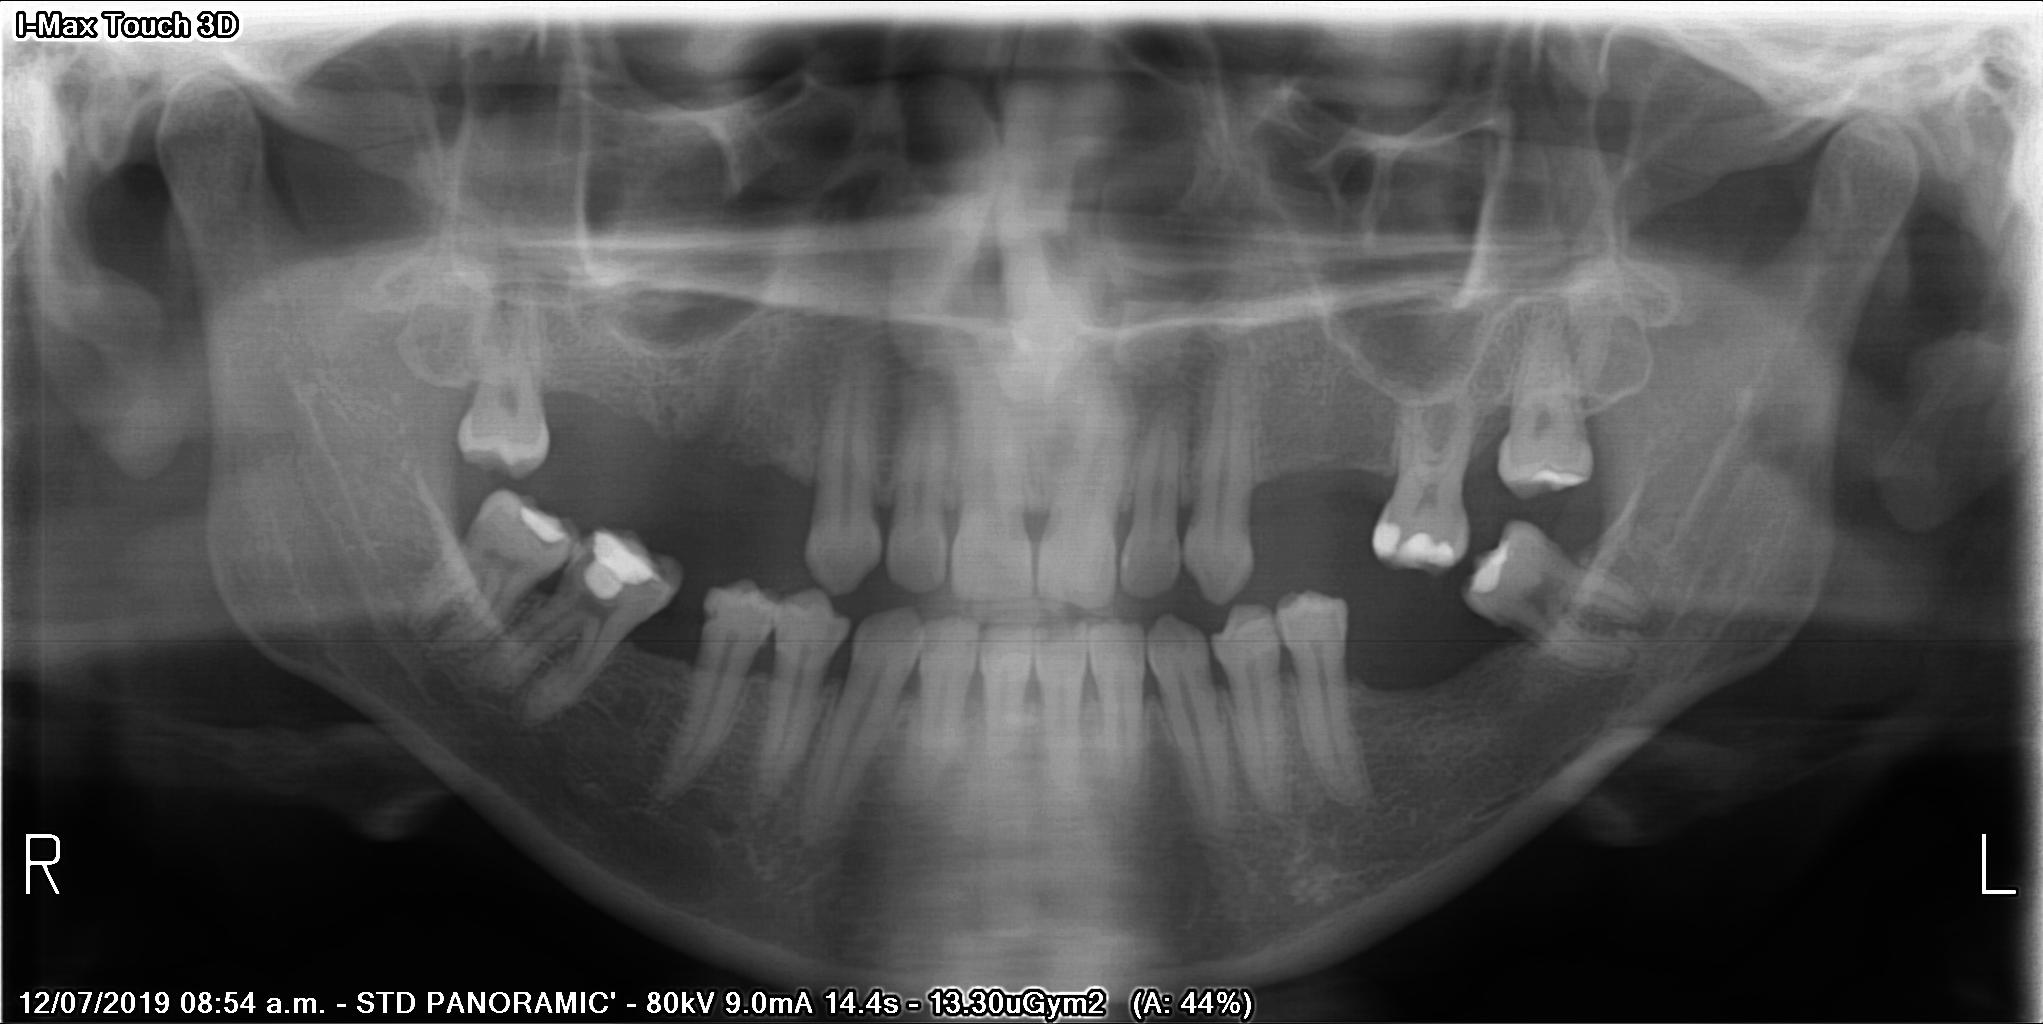Çürük: (1363, 496, 1461, 583), (573, 522, 663, 596), (1466, 512, 1522, 610), (512, 491, 576, 550), (1531, 461, 1594, 500)
